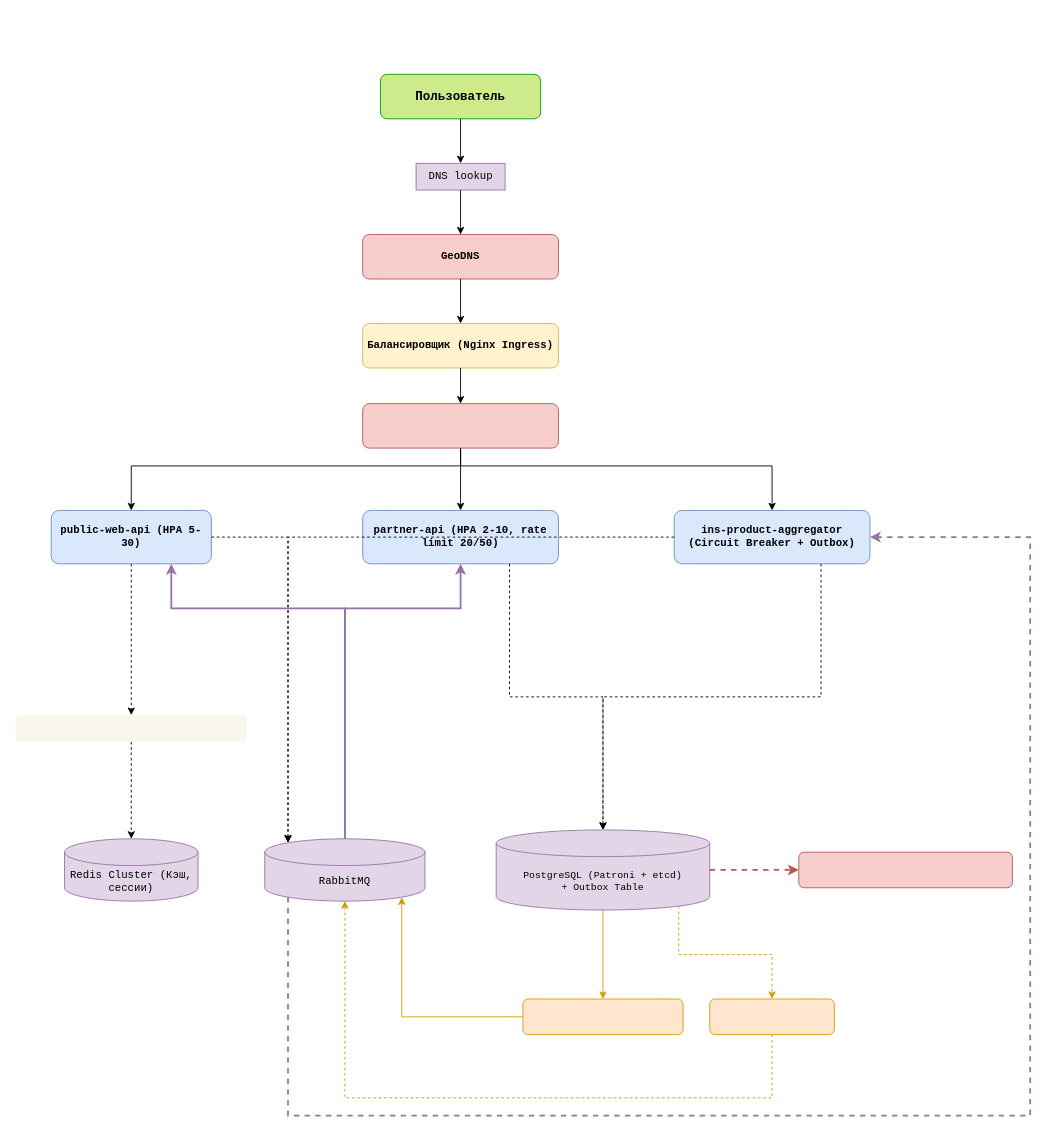
This 1053x1139 diagram has some shape labels left out. Each missing label, with the centre of its shape:
"API Gateway (Rate limiting, Auth, Routing)" goes at (460,425).
"Debezium (CDC)" goes at (771,1016).
"Outbox Poller (отдельный воркер)" goes at (602,1016).
"Асинхронная логическая репликация (RPO 15 мин)" goes at (905,869).
"📨 Подписка на события (ProductUpdated, PolicyIssued)" goes at (131,728).
